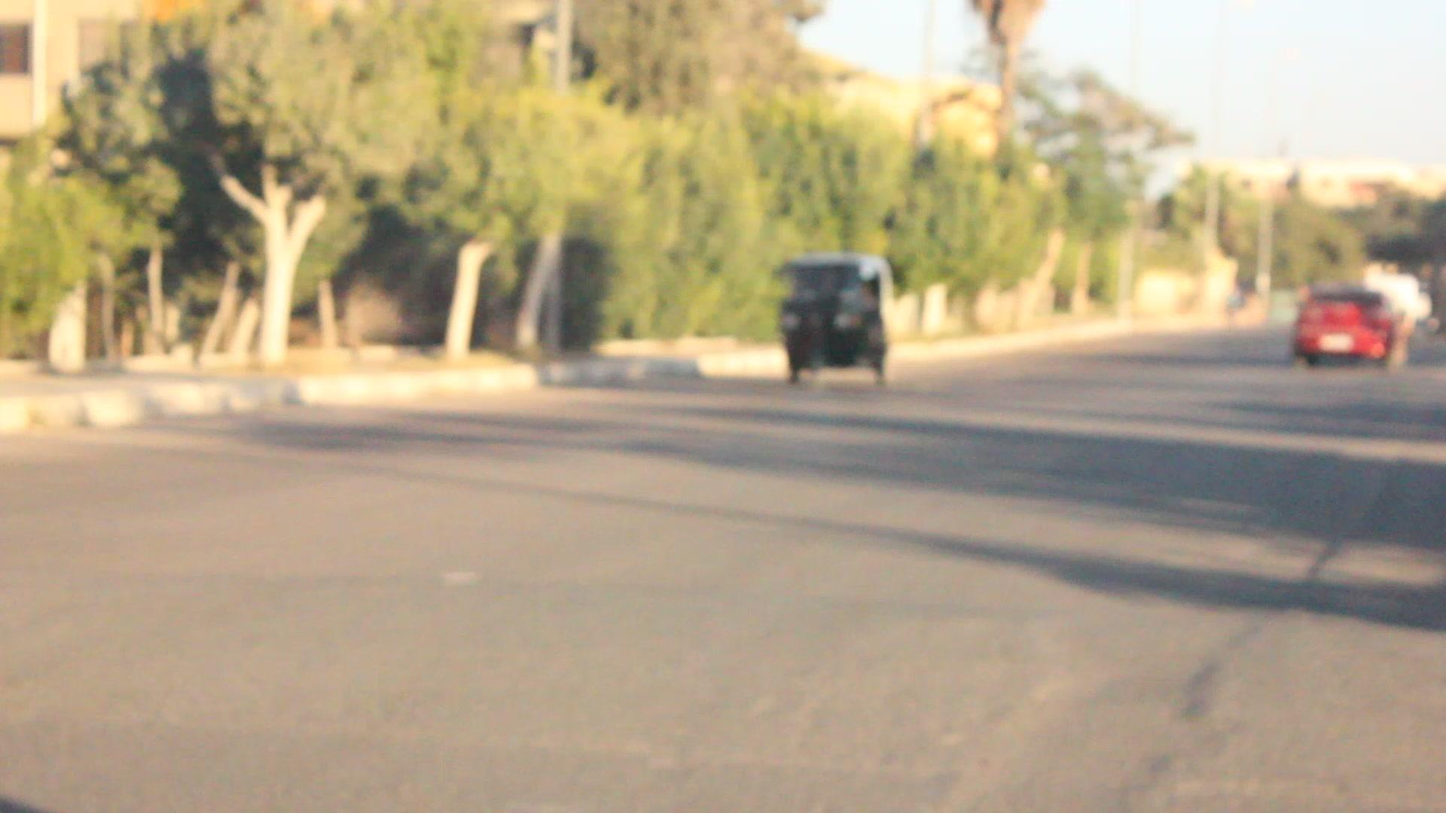Bump: (0, 564, 1445, 812)
